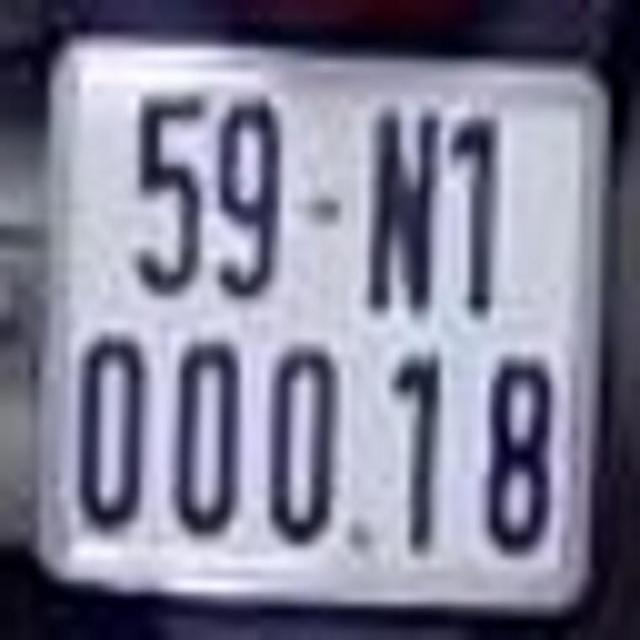0: (272, 343, 334, 539), (177, 343, 240, 528), (82, 333, 142, 524)
1: (388, 350, 442, 556), (452, 114, 502, 317)
5: (135, 95, 203, 284)
8: (491, 354, 545, 552)
9: (215, 96, 273, 292)
N: (366, 100, 433, 312)
